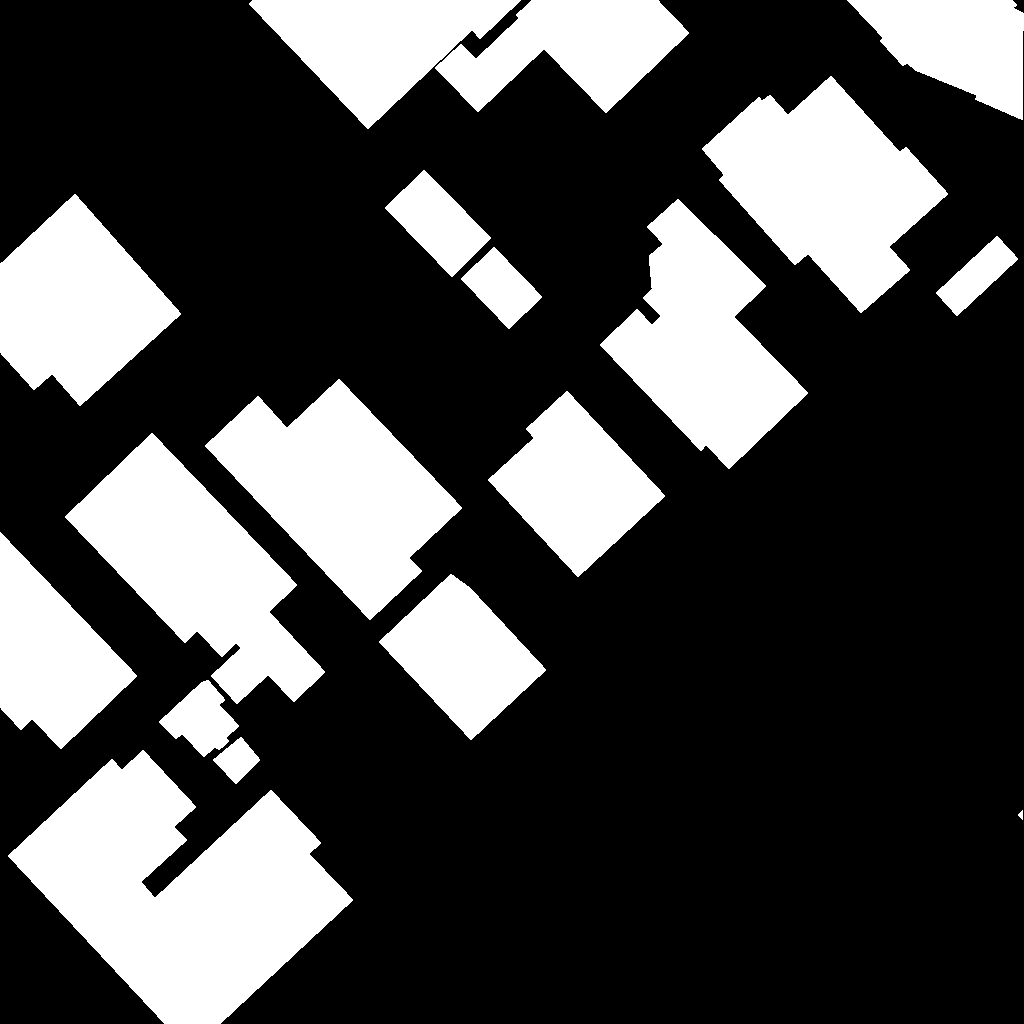building: (8, 750, 354, 1024), (65, 433, 326, 705), (205, 379, 463, 621), (702, 76, 949, 314), (600, 199, 809, 470), (0, 194, 182, 407), (249, 0, 522, 130), (488, 391, 666, 578), (0, 532, 138, 750), (435, 0, 690, 114), (379, 574, 547, 741), (847, 0, 1024, 121), (385, 170, 492, 278), (461, 247, 543, 330), (936, 236, 1019, 317), (159, 680, 240, 758), (213, 737, 261, 785), (1018, 810, 1024, 821)
